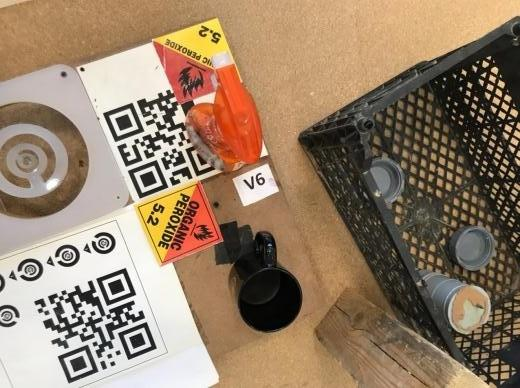organic-peroxide: (150, 17, 243, 105), (134, 181, 225, 266)
